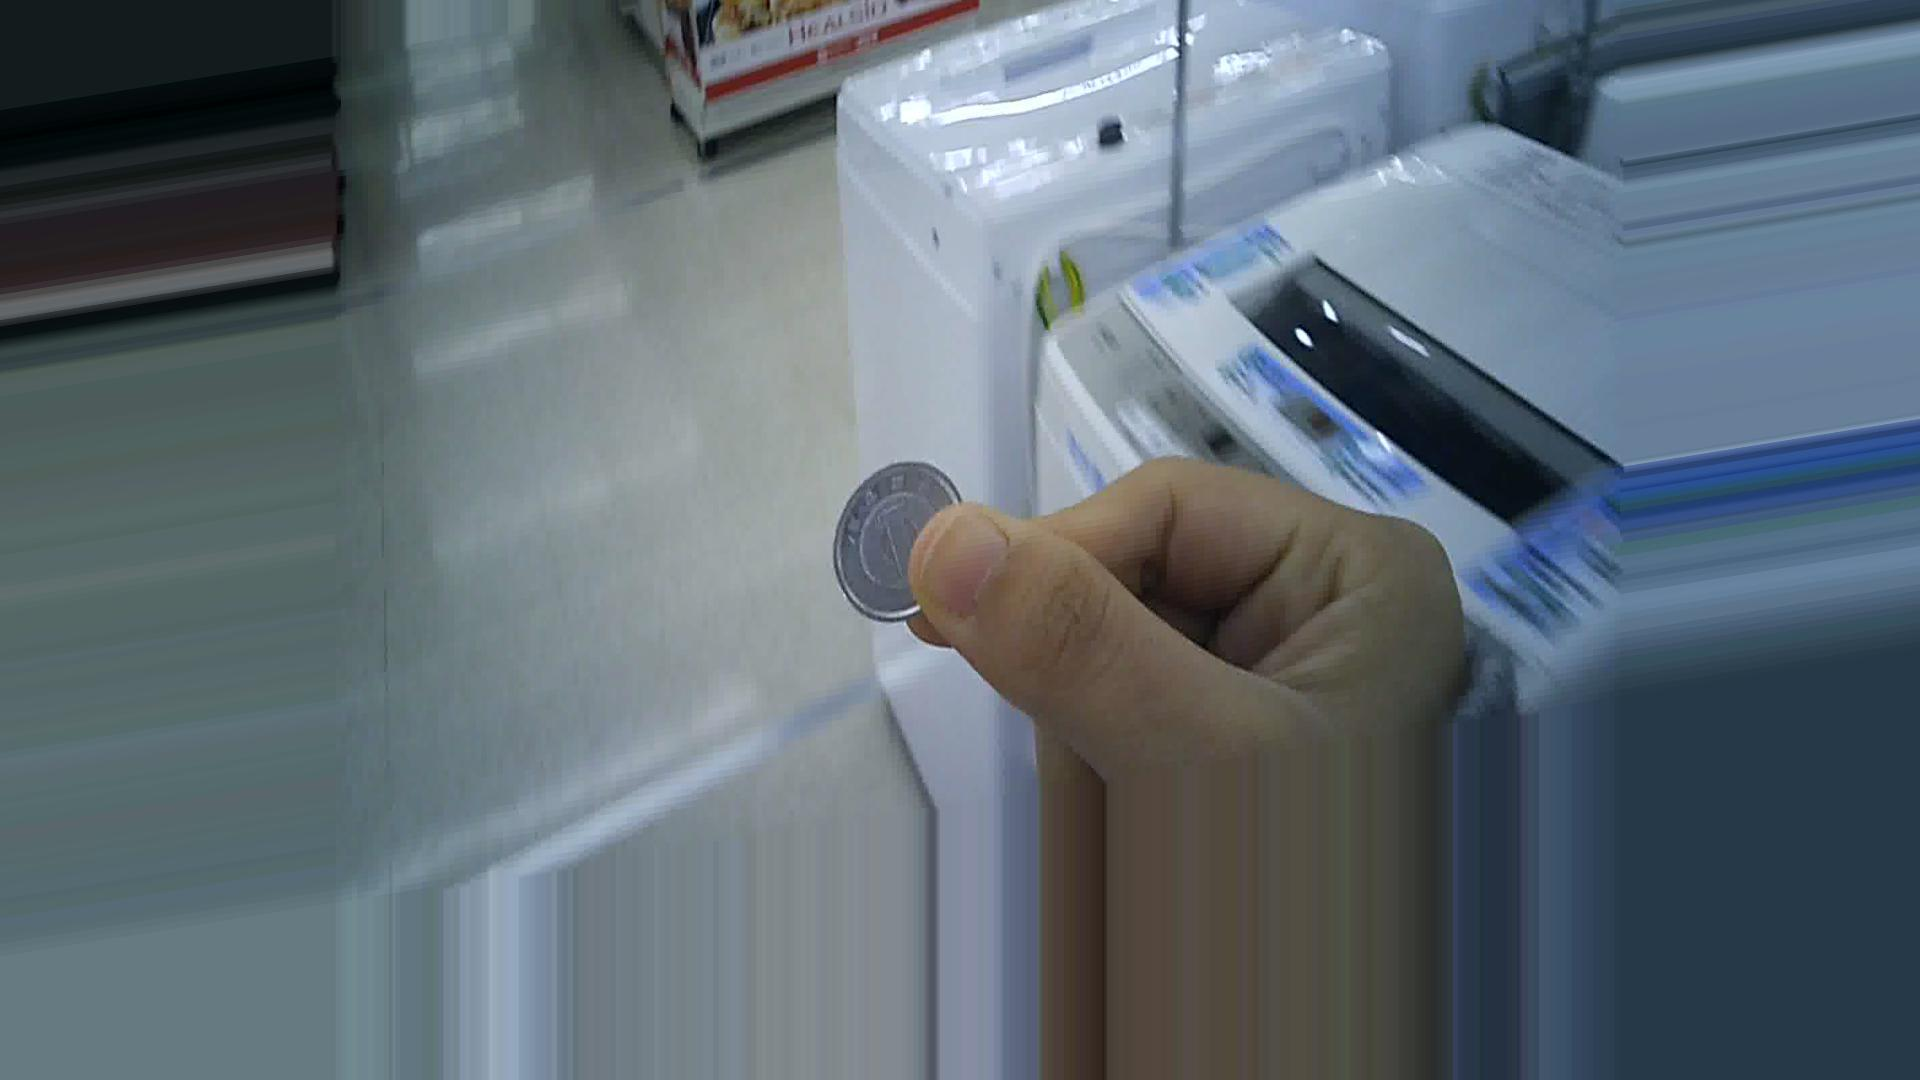1 Yen: (823, 458, 969, 615)
